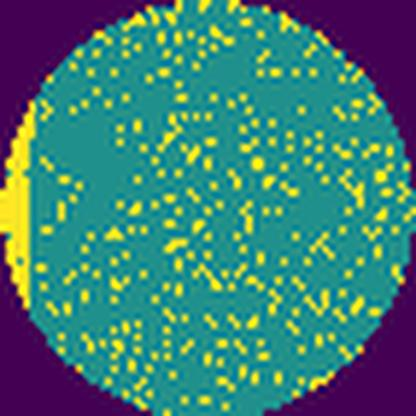Edge-Loc: (0, 94, 41, 316)
